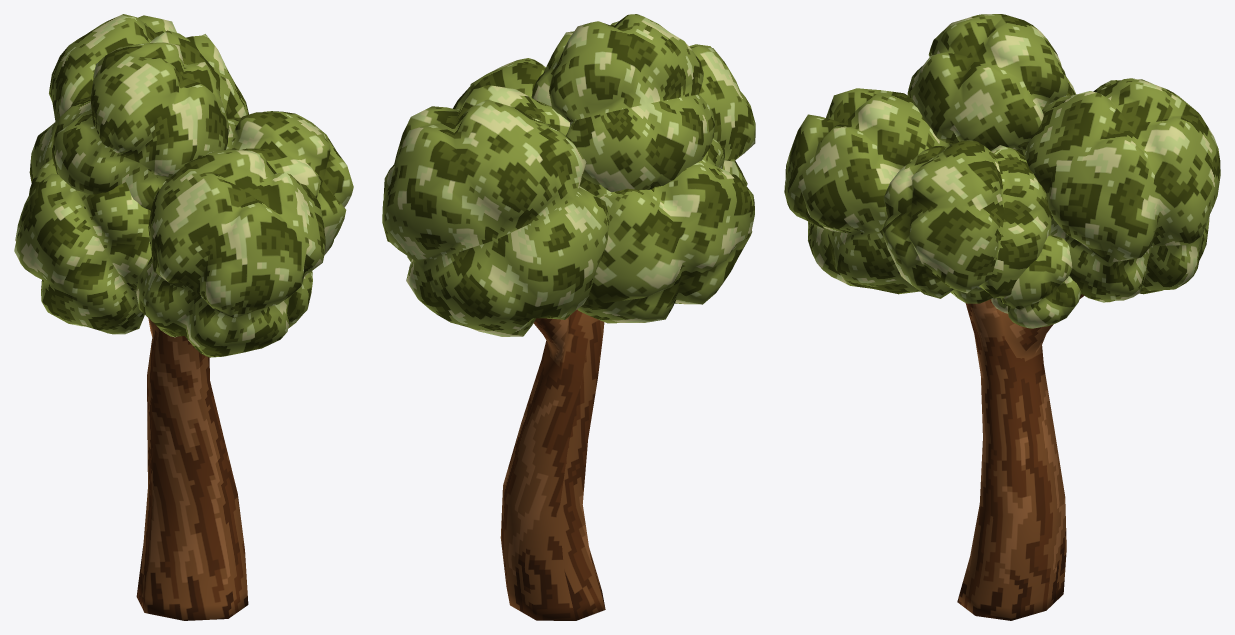
Rendered from (OLD)Tree2nd.fbx.
The picture shows the model from 3 angles, left to right: view 1: azimuth 30°, elevation 25°; view 2: azimuth 150°, elevation 25°; view 3: azimuth 270°, elevation 25°; orthographic projection. The views are drawn at different scales.
Visible parts, largest first — view 1: TreeVarant; view 2: TreeVarant; view 3: TreeVarant.
Part boxes in pixels (bbox=[...]): TreeVarant: bbox=[14, 14, 353, 620]; TreeVarant: bbox=[382, 14, 755, 620]; TreeVarant: bbox=[784, 14, 1220, 620].
Size of the model in its own units: 72.7 by 136 by 97.47.
Materials: 1 (1 with a texture image).
